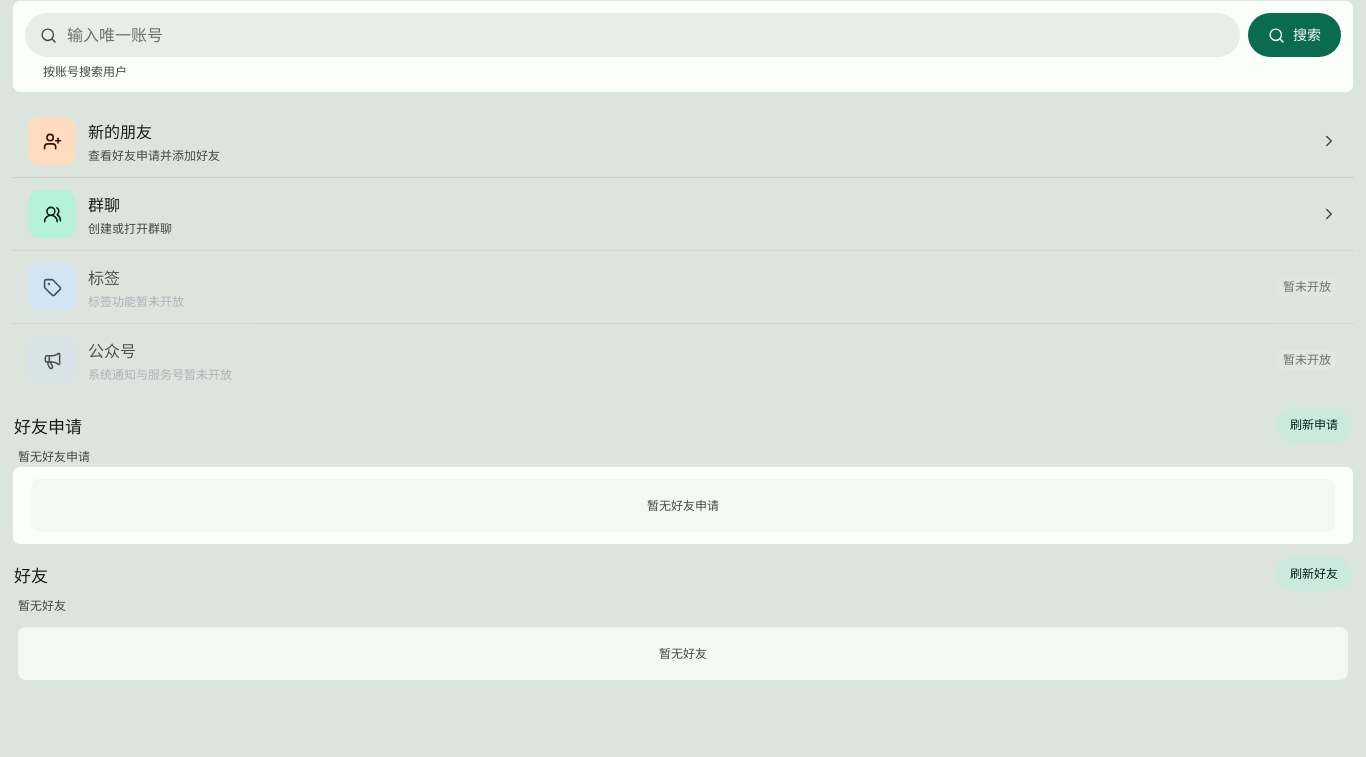
Test: ContactsPage › marks a search result as pending and keeps it out of the friend list until accepted
This screenshot has width=1366, height=757.
Type "bob_002" into the field named "按账号搜索用户" at (645,35), box [65, 24, 1225, 46]
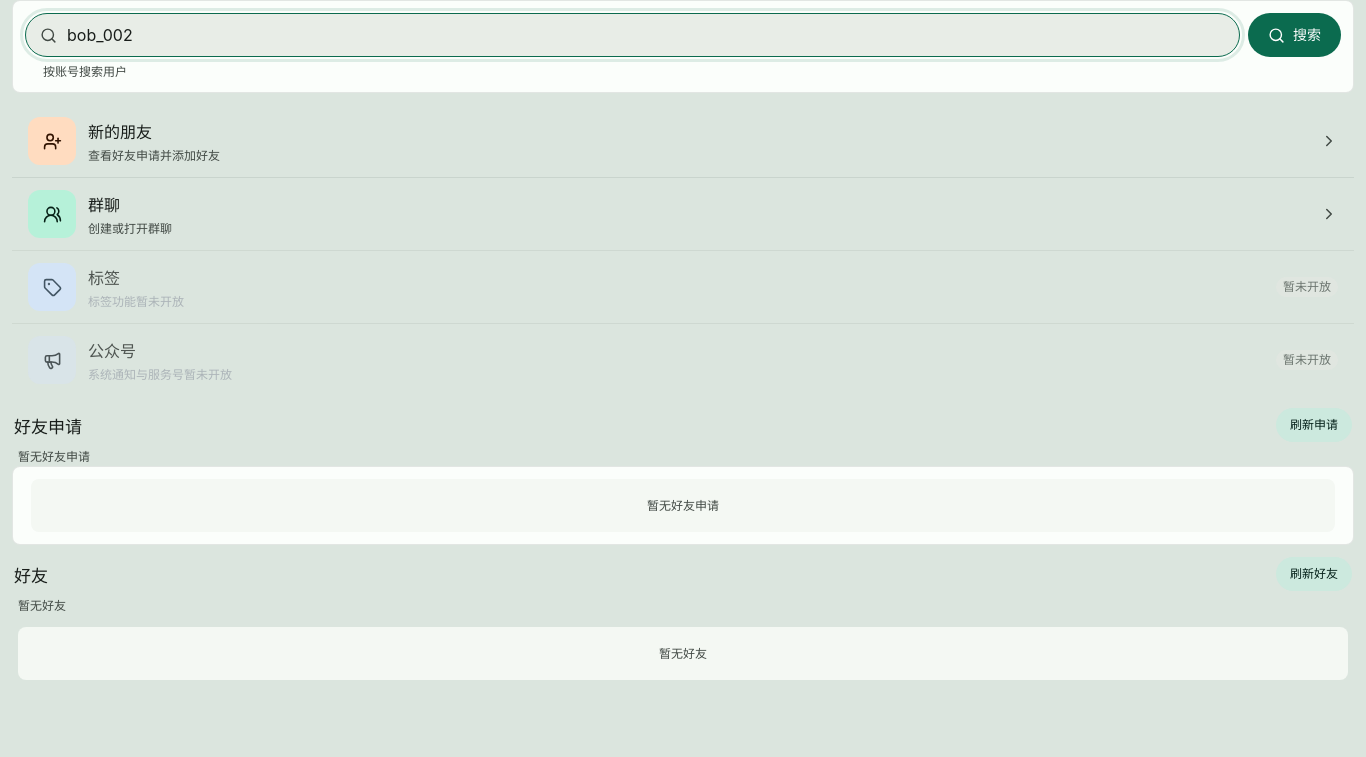
Click the button with aria-label "搜索用户" at (1294,35), box [1248, 13, 1341, 57]
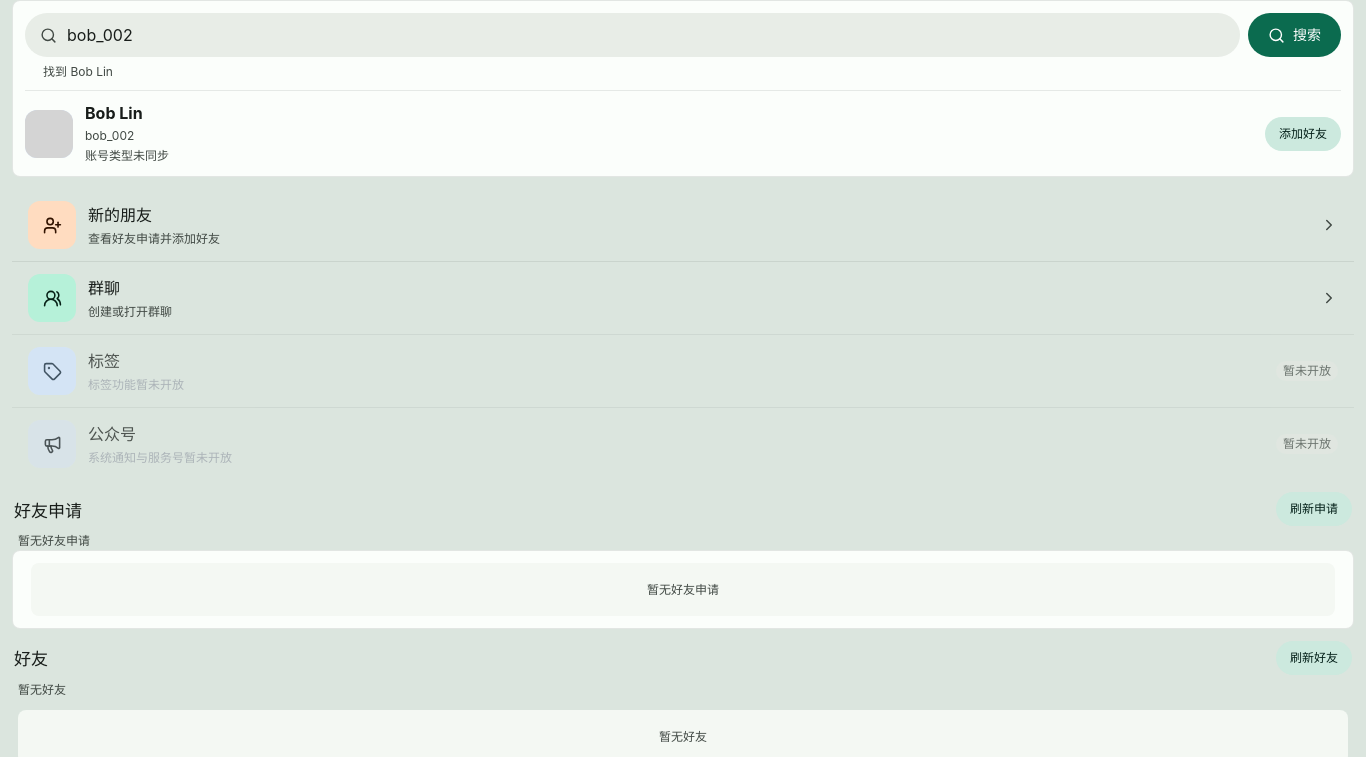
Click the button with aria-label "添加好友 bob_002" at (1303,134), box [1265, 117, 1341, 151]
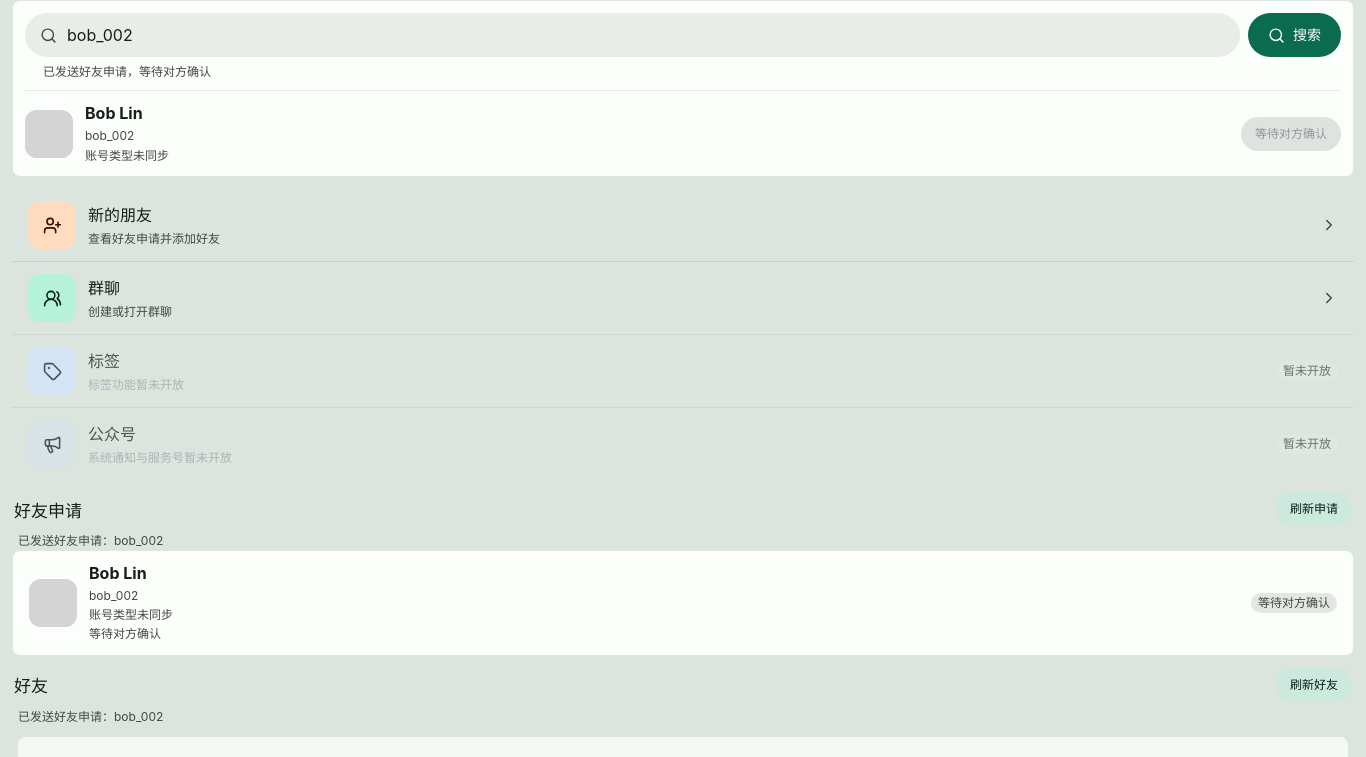
Check: the button "等待对方确认" is disabled, box [1241, 117, 1341, 151]
